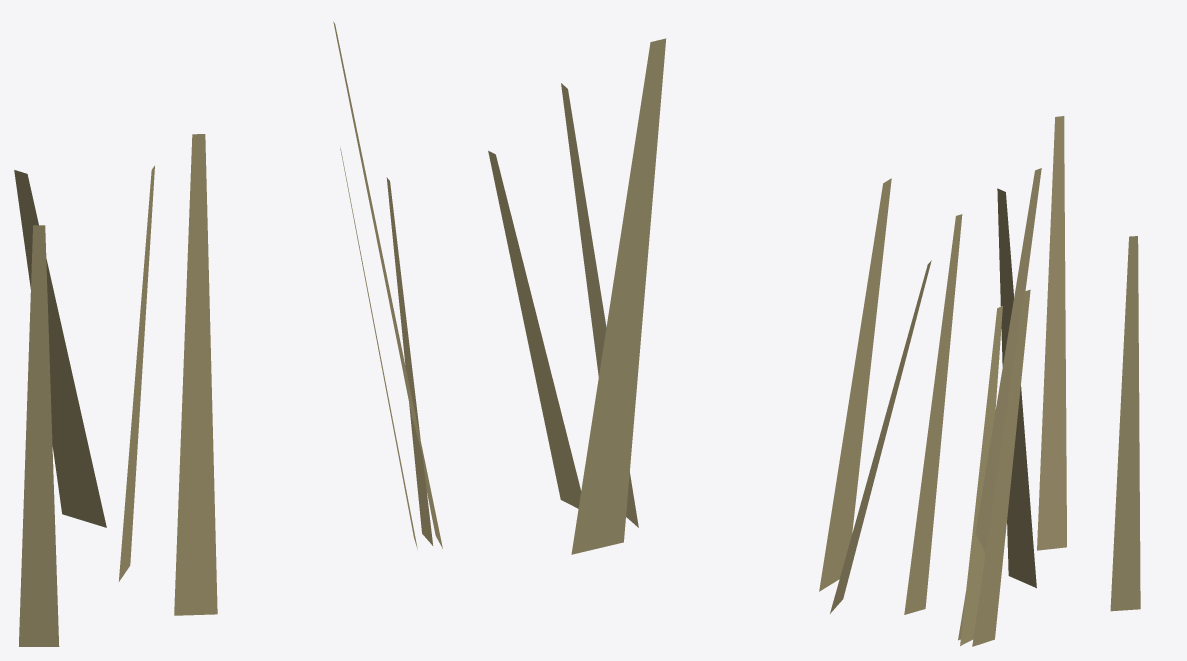
The model's file is veg_grass_dry_03.glb.
3 views of the same model, side by side, from view 1: azimuth 30°, elevation 25°; view 2: azimuth 150°, elevation 25°; view 3: azimuth 270°, elevation 25° (orthographic). The views are drawn at different scales.
Visible parts, largest first — view 1: blade_10, blade_11, blade_03, blade_08; view 2: blade_06, blade_07, blade_09, blade_00, blade_05, blade_04; view 3: blade_01, blade_02, blade_09, blade_12, blade_04, blade_08, blade_05, blade_00, blade_07.
Part boxes in pixels (x1,y1,x2,y2): blade_10: (174,134,217,615); blade_11: (19,225,59,646); blade_03: (14,170,106,527); blade_08: (119,165,154,581); blade_06: (571,38,666,554); blade_07: (488,150,581,508); blade_09: (561,83,638,527); blade_00: (386,177,433,545); blade_05: (333,21,442,548); blade_04: (340,148,417,548); blade_01: (1037,116,1066,550); blade_02: (1110,236,1140,611); blade_09: (819,178,891,591); blade_12: (904,214,962,614); blade_04: (972,289,1030,646); blade_08: (997,188,1036,588); blade_05: (958,168,1041,640); blade_00: (960,305,1002,645); blade_07: (830,260,931,613).
Bounding box in the file's own units: 0.7704 × 1.11 × 0.6836.
